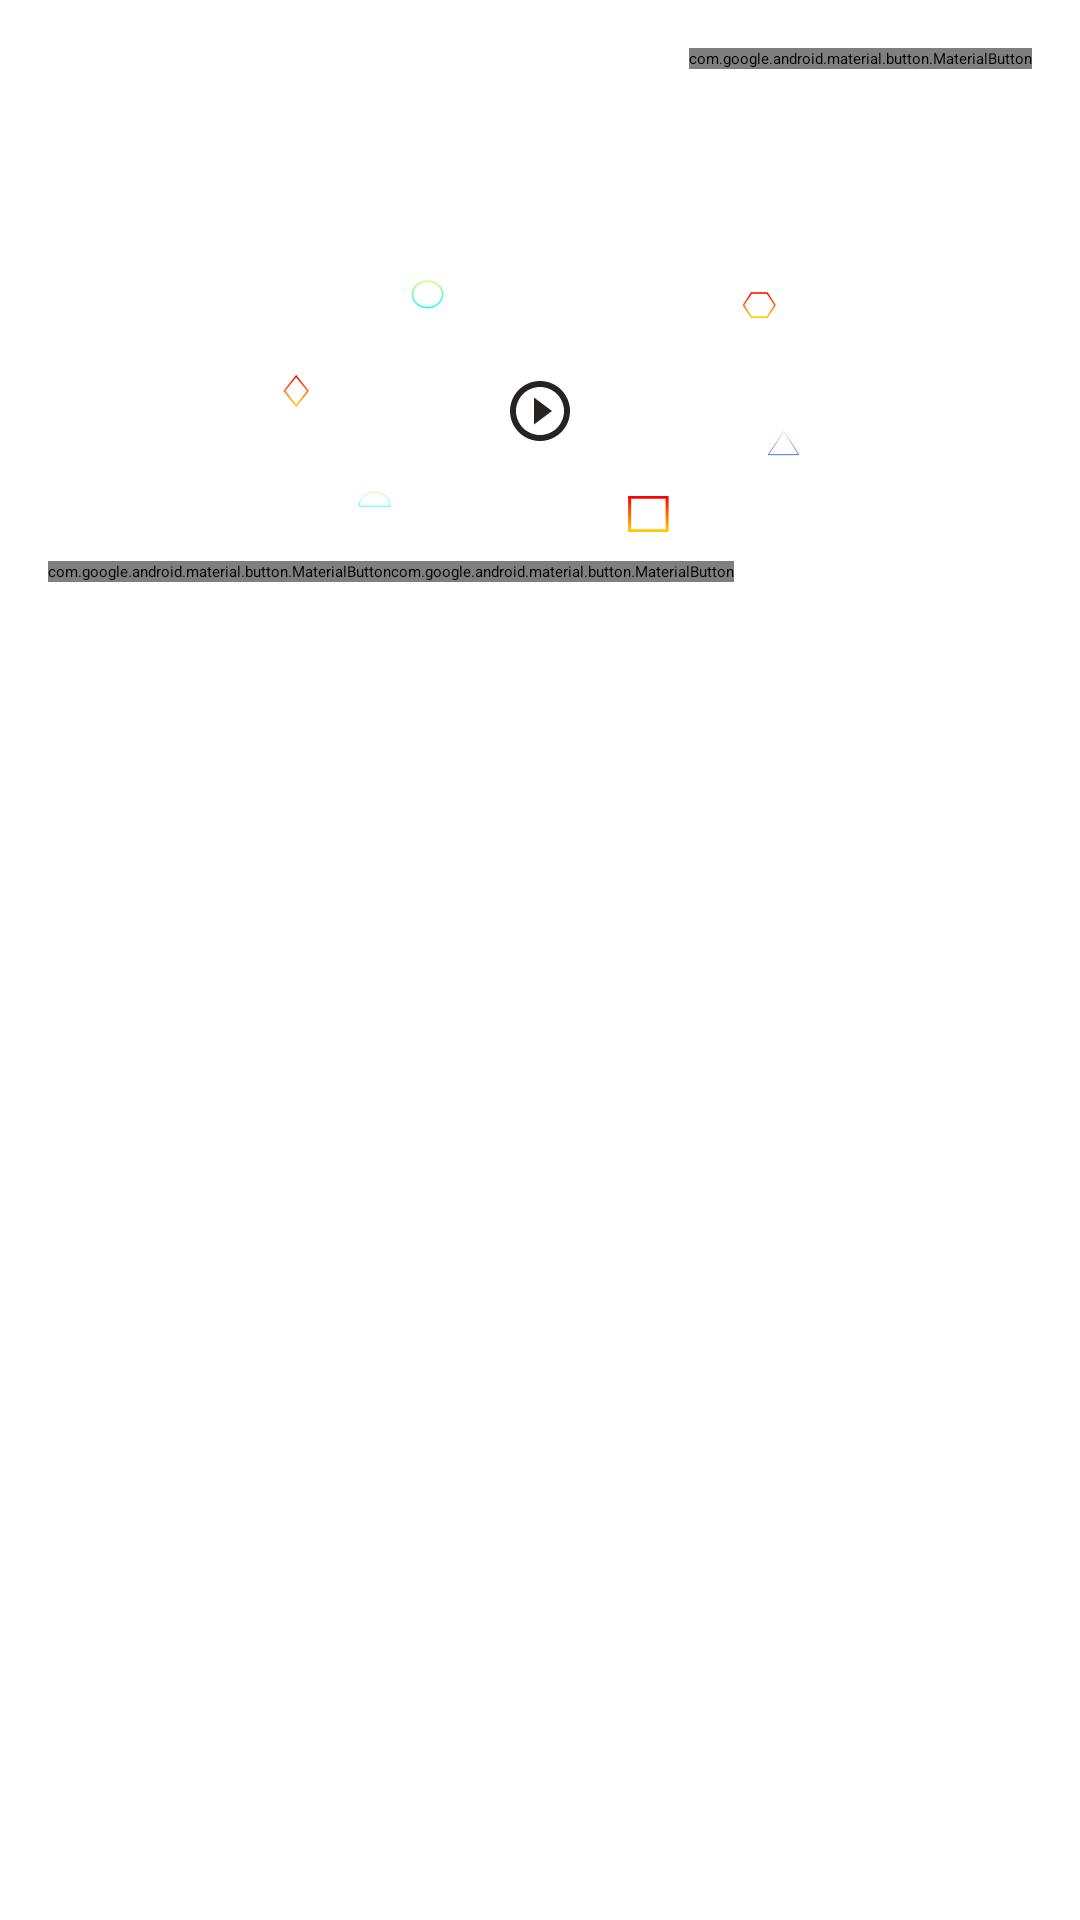

Named icons in this screenshot (1080×1920) and their bounding boxes, (x1, y1, x2, y2):
play: (510, 381, 570, 441)
